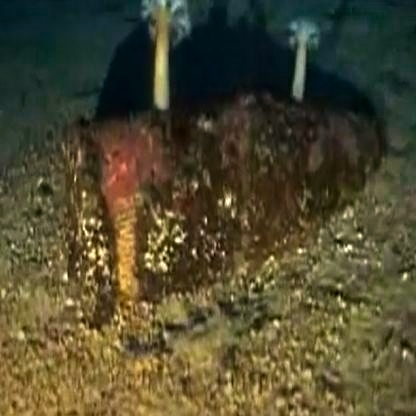gbottle: (46, 97, 409, 307)
